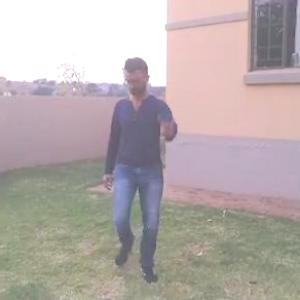takeoff-hand: (154, 104, 182, 138)
